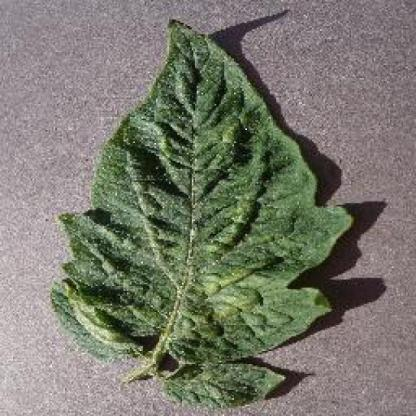Tomato_Spider_Mites: (54, 21, 350, 401)
